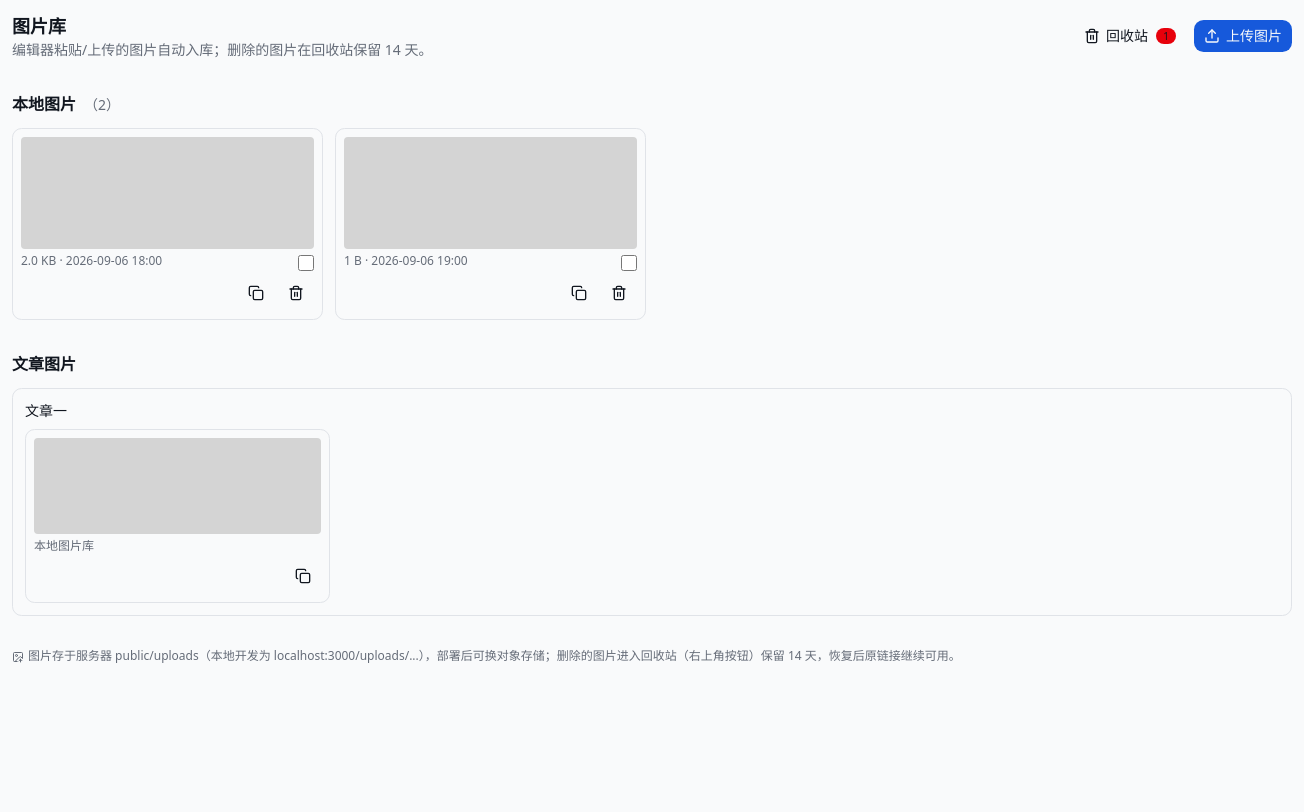
it: ImageLibraryClient 多选与批量 › 批量部分失败：显示成功/失败计数
The width and height of the screenshot is (1304, 812).
What coordinates should you click on to do the following:
click the button with test id "select-a.png"
I would click on:
 (168, 224)
Its box is [12,128,323,320].
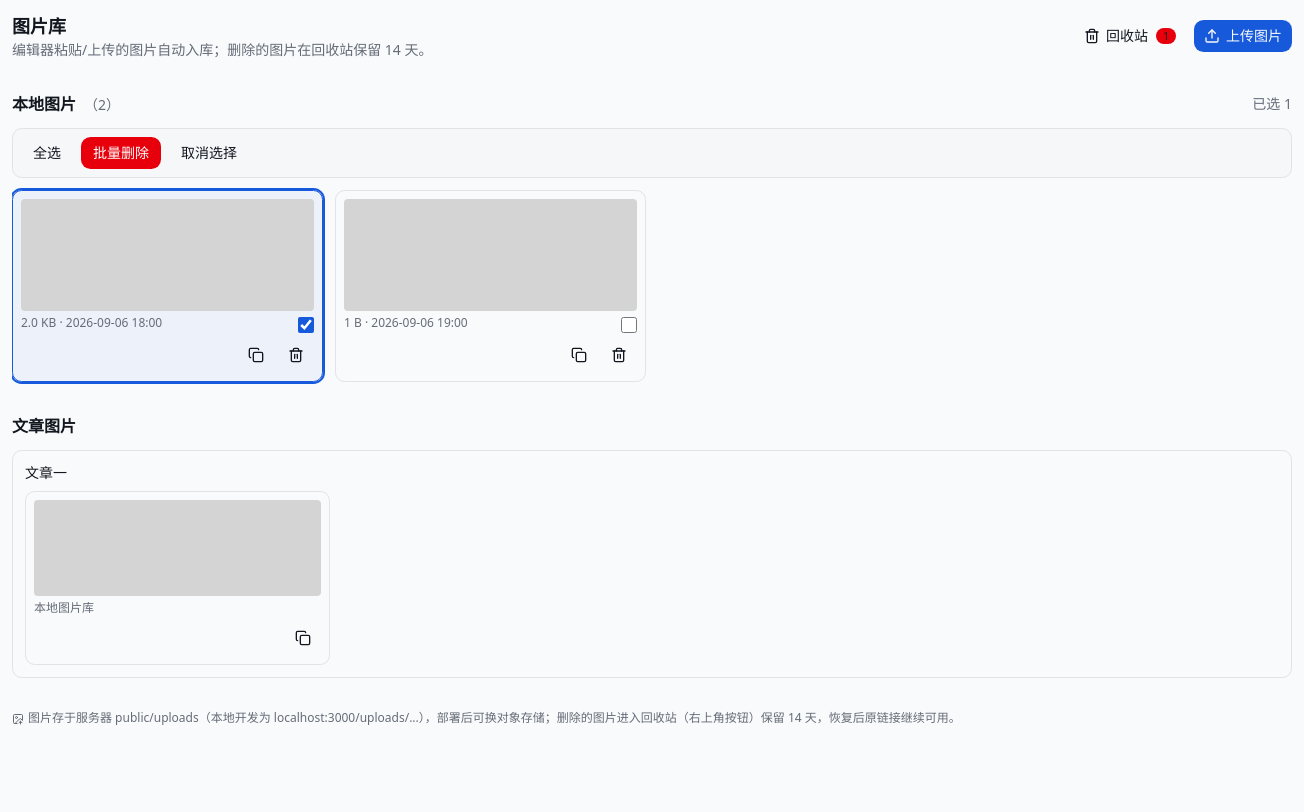
What coordinates should you click on to do the following:
click the button with test id "select-b.png"
I would click on:
 (490, 286)
Its box is [335,190,646,382].
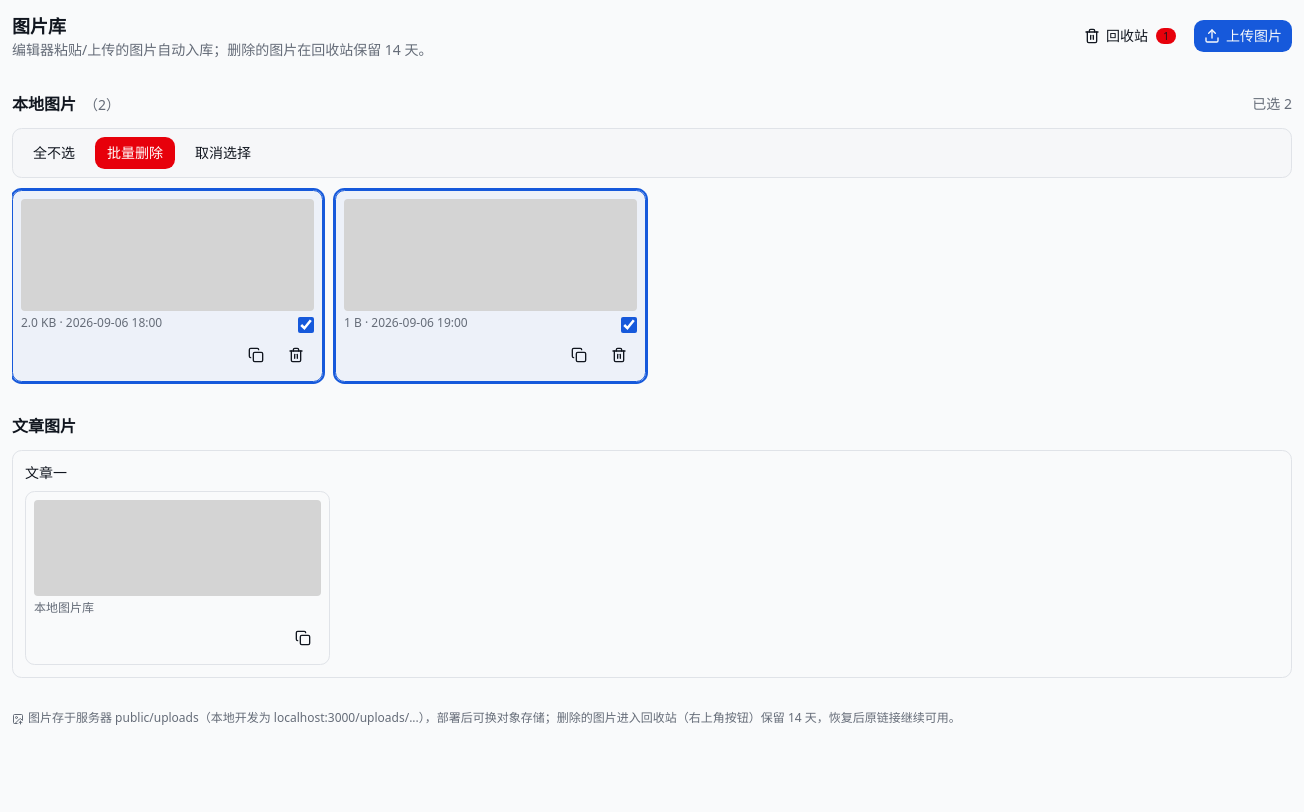
What coordinates should you click on to do the following:
click the button "批量删除"
I would click on:
 (135, 153)
Its box is [95,137,175,169].
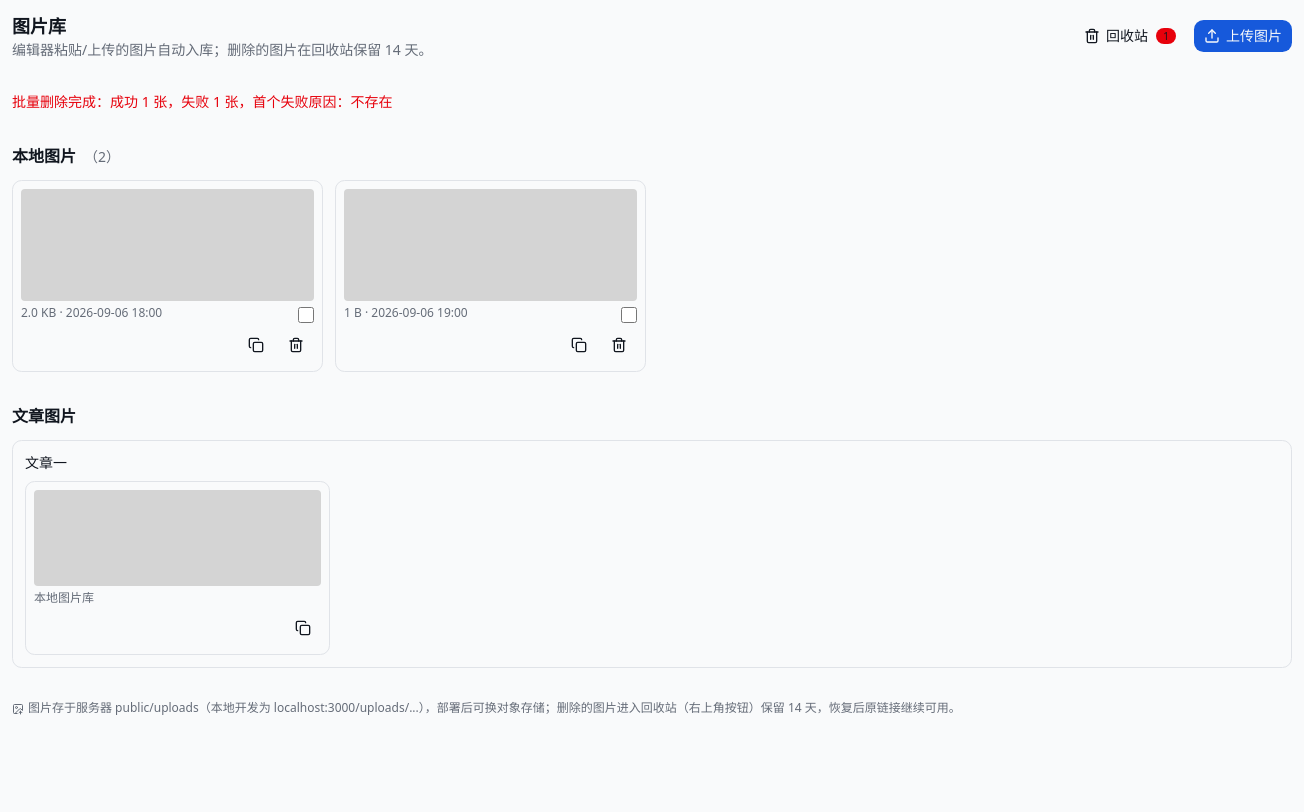
Now the message shows "成功 1 张，失败 1 张", box [12,92,393,111]
